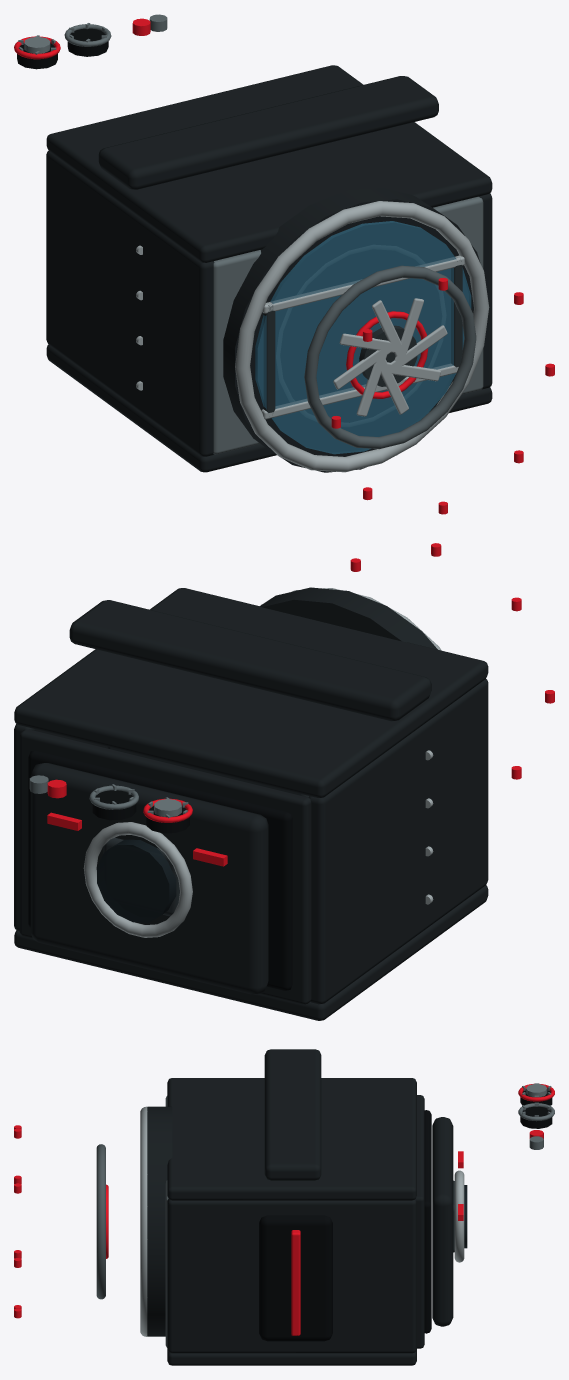
File: ufirst-camera-distant.glb
3 renders of one model, top to bottom at view 1: azimuth 30°, elevation 25°; view 2: azimuth 150°, elevation 25°; view 3: azimuth 270°, elevation 25°, orthographic. The views are drawn at different scales.
Parts seen in each view (by area): view 1: TopPlate, LeftBodyRail, FrontLens, TopCarryHandle, LensHousingFrontEdge, LensHousing, FrontChassisPlate, Aperture, BottomPlate, RightBodyRail, Shutter, ShutterRailLeft (+12 smaller); view 2: TopPlate, LeftBodyRail, RearModule, TopCarryHandle, RearChassisPlate, RearGripPanel, BottomPlate, ViewfinderGlass, LensHousing, ViewfinderRing, RightBodyRail, ShutterDial base; view 3: RightBodyRail, TopPlate, Grip, TopCarryHandle, LensHousing, RearModule, BottomPlate, RearChassisPlate, LensHousingFrontEdge, RearGripPanel, Aperture, GripAccent (+3 smaller).
Part boxes in pixels (bbox=[...]): TopPlate: bbox=[46, 65, 492, 262]; LeftBodyRail: bbox=[46, 151, 214, 456]; FrontLens: bbox=[255, 221, 471, 454]; TopCarryHandle: bbox=[98, 76, 438, 189]; LensHousingFrontEdge: bbox=[235, 201, 489, 472]; LensHousing: bbox=[223, 187, 487, 472]; FrontChassisPlate: bbox=[213, 196, 483, 454]; Aperture: bbox=[304, 265, 476, 449]; BottomPlate: bbox=[46, 345, 492, 472]; RightBodyRail: bbox=[479, 193, 492, 389]; Shutter: bbox=[262, 255, 464, 313]; ShutterRailLeft: bbox=[263, 301, 275, 412]; TopPlate: bbox=[14, 588, 488, 797]; LeftBodyRail: bbox=[308, 679, 488, 1004]; RearModule: bbox=[30, 763, 268, 994]; TopCarryHandle: bbox=[69, 600, 431, 721]; RearChassisPlate: bbox=[19, 729, 311, 1004]; RearGripPanel: bbox=[28, 750, 292, 990]; BottomPlate: bbox=[14, 885, 488, 1020]; ViewfinderGlass: bbox=[97, 839, 176, 922]; LensHousing: bbox=[260, 587, 437, 649]; ViewfinderRing: bbox=[83, 822, 192, 937]; RightBodyRail: bbox=[14, 724, 107, 931]; ShutterDial base: bbox=[92, 790, 136, 820]; RightBodyRail: bbox=[167, 1199, 416, 1353]; TopPlate: bbox=[167, 1078, 416, 1200]; Grip: bbox=[259, 1215, 332, 1341]; TopCarryHandle: bbox=[264, 1049, 321, 1180]; LensHousing: bbox=[147, 1106, 172, 1336]; RearModule: bbox=[432, 1117, 453, 1326]; BottomPlate: bbox=[167, 1349, 416, 1365]; RearChassisPlate: bbox=[416, 1095, 424, 1348]; LensHousingFrontEdge: bbox=[140, 1106, 147, 1336]; RearGripPanel: bbox=[424, 1110, 431, 1333]; Aperture: bbox=[96, 1144, 105, 1299]; GripAccent: bbox=[291, 1230, 300, 1335].
Bounding box in the file's own units: 6.08 × 5.07 × 11.28.
